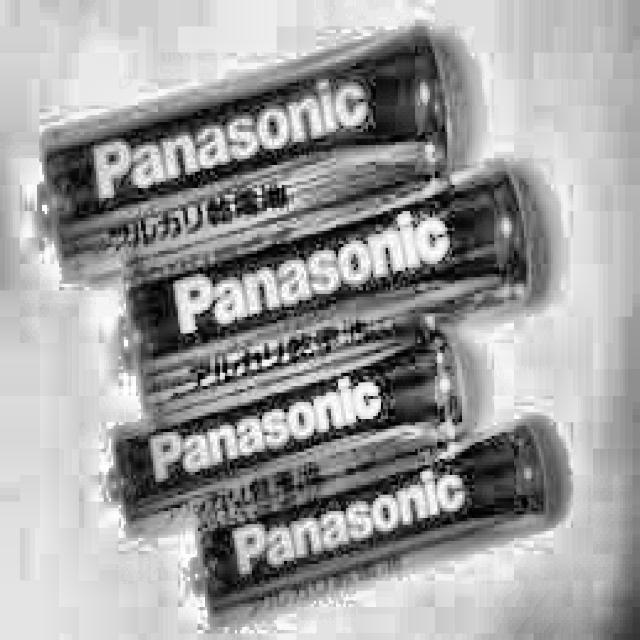drycell: (27, 18, 496, 284), (111, 151, 542, 421)
